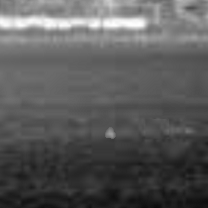Target: (104, 126, 116, 139)
